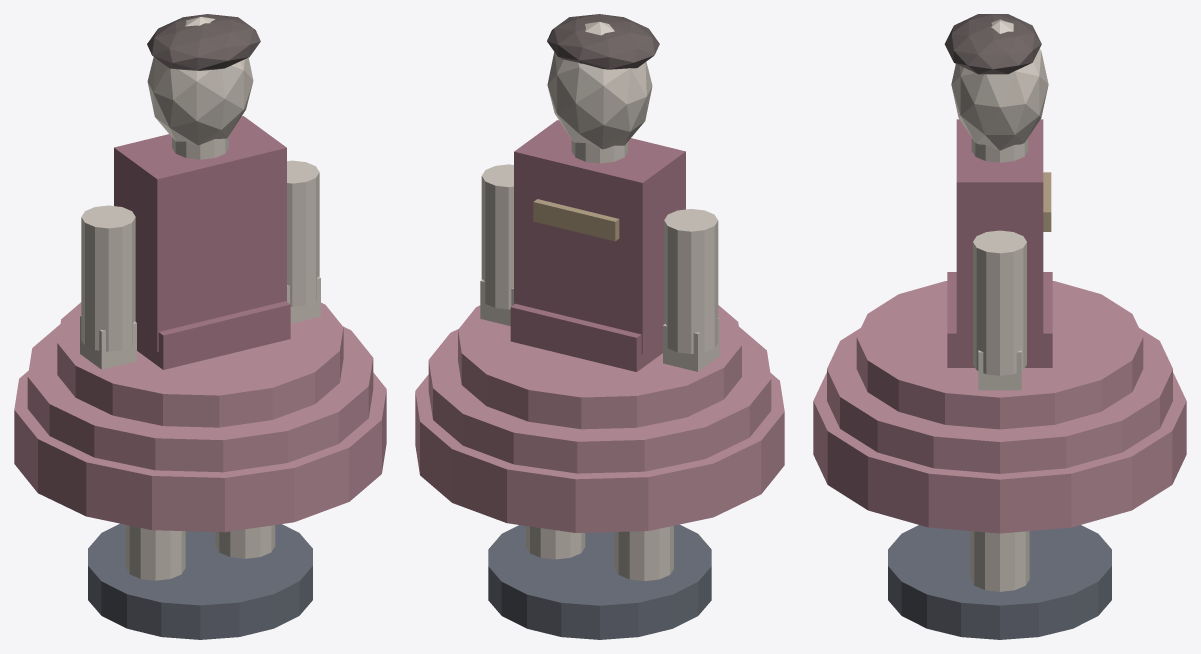
Rendered from mannequin_atelier.glb.
3 views of the same model, side by side, from view 1: azimuth 30°, elevation 25°; view 2: azimuth 150°, elevation 25°; view 3: azimuth 270°, elevation 25° (orthographic).
Parts seen in each view (by area): view 1: mannequin_atelier; view 2: mannequin_atelier; view 3: mannequin_atelier.
Boxes of the visible parts, box(x1,y1,x2,y2) form: mannequin_atelier: box(14, 14, 386, 639); mannequin_atelier: box(415, 14, 784, 639); mannequin_atelier: box(813, 14, 1186, 639).
Size of the model in its own units: 1.38 by 2.33 by 1.38.
